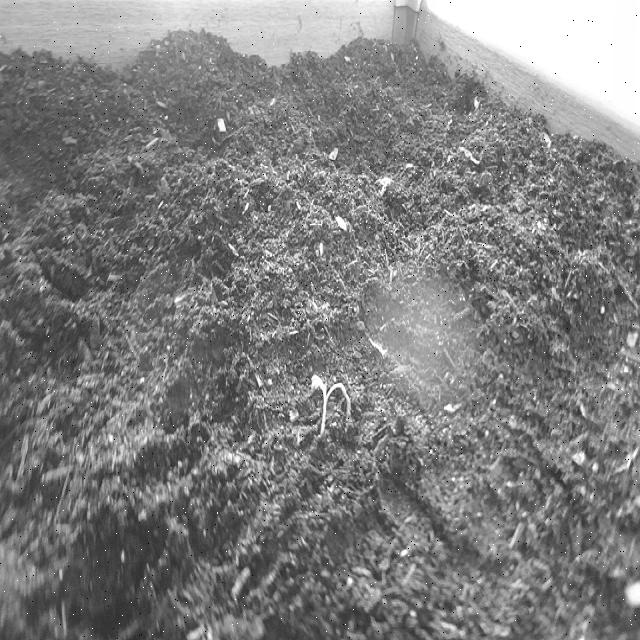Healthy: (306, 365, 354, 447)
